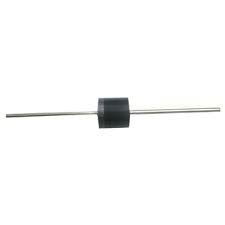diode: (75, 81, 157, 147)
